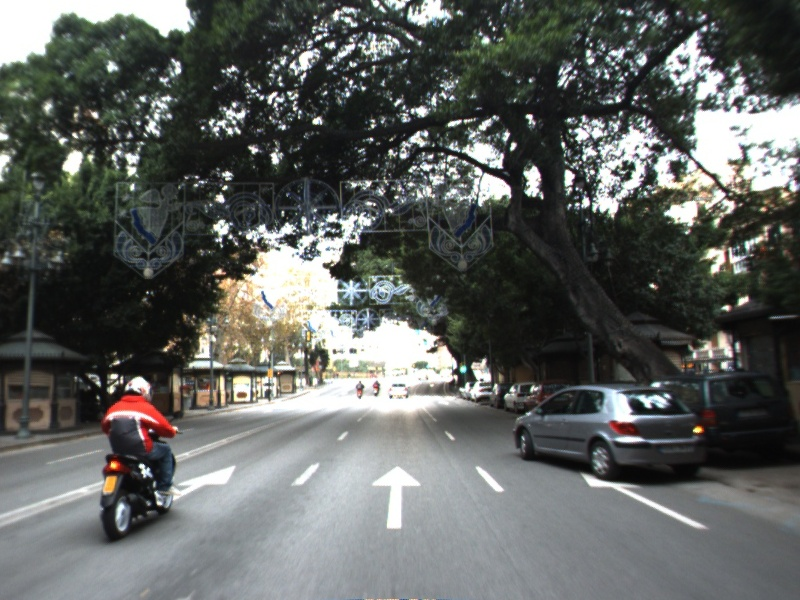STRAIGHT: (576, 468, 711, 532), (367, 462, 425, 531), (166, 461, 238, 504)
